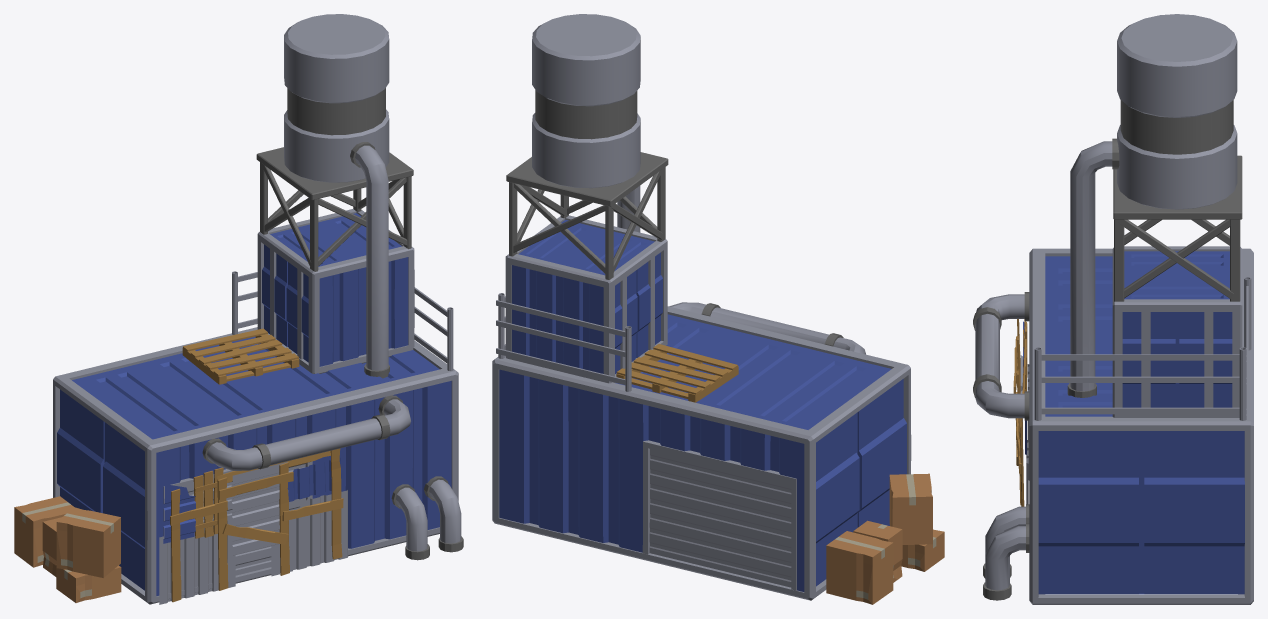
The model's file is structure_3.glb.
The picture shows the model from 3 angles, left to right: view 1: azimuth 30°, elevation 25°; view 2: azimuth 150°, elevation 25°; view 3: azimuth 270°, elevation 25°; orthographic projection. The views are drawn at different scales.
Parts seen in each view (by area): view 1: Structure_3; view 2: Structure_3; view 3: Structure_3.
Part boxes in pixels (x1=…): Structure_3: x1=14, y1=14, x2=463, y2=604; Structure_3: x1=492, y1=14, x2=944, y2=604; Structure_3: x1=973, y1=14, x2=1253, y2=604.
Size of the model in its own units: 7.87 by 9.52 by 4.52.
